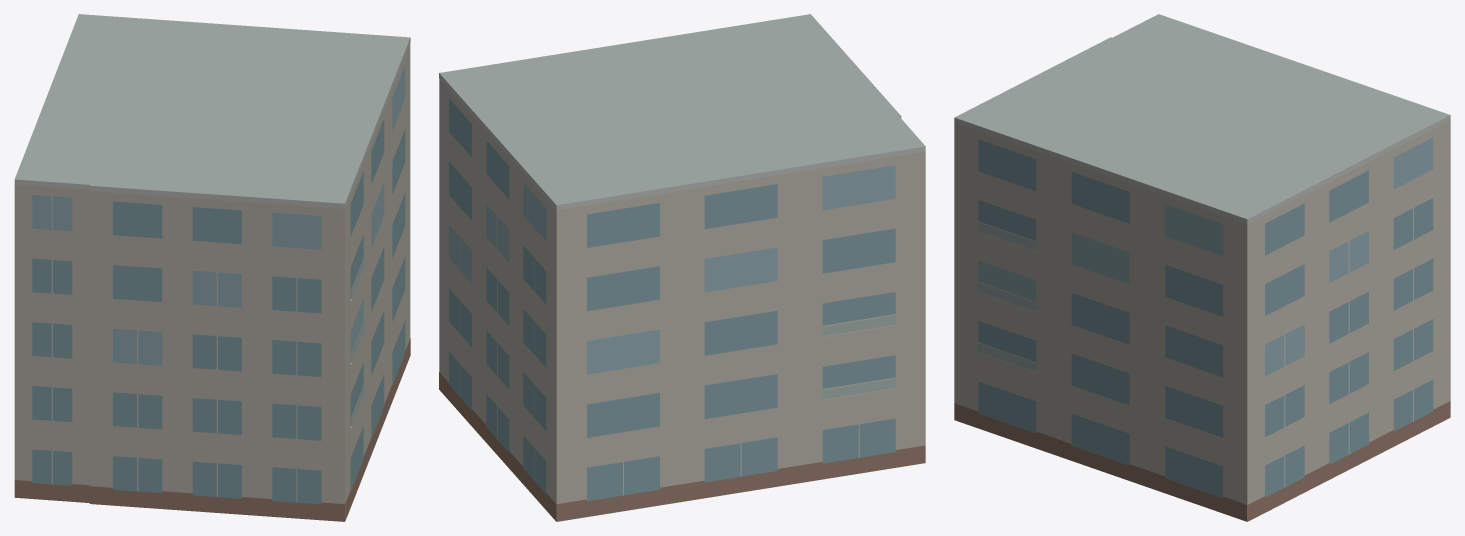
The model's file is survey-upis-32670546.glb.
The picture shows the model from 3 angles, left to right: view 1: azimuth 30°, elevation 25°; view 2: azimuth 150°, elevation 25°; view 3: azimuth 270°, elevation 25°; orthographic projection. The views are drawn at different scales.
Visible parts, largest first — view 1: survey-upis-32670546.tmp; view 2: survey-upis-32670546.tmp; view 3: survey-upis-32670546.tmp.
Boxes of the visible parts, <box> form: survey-upis-32670546.tmp: <box>14,14,410,521</box>; survey-upis-32670546.tmp: <box>439,14,925,521</box>; survey-upis-32670546.tmp: <box>954,14,1450,521</box>.
Size of the model in its own units: 21.25 by 14.6 by 21.71.
